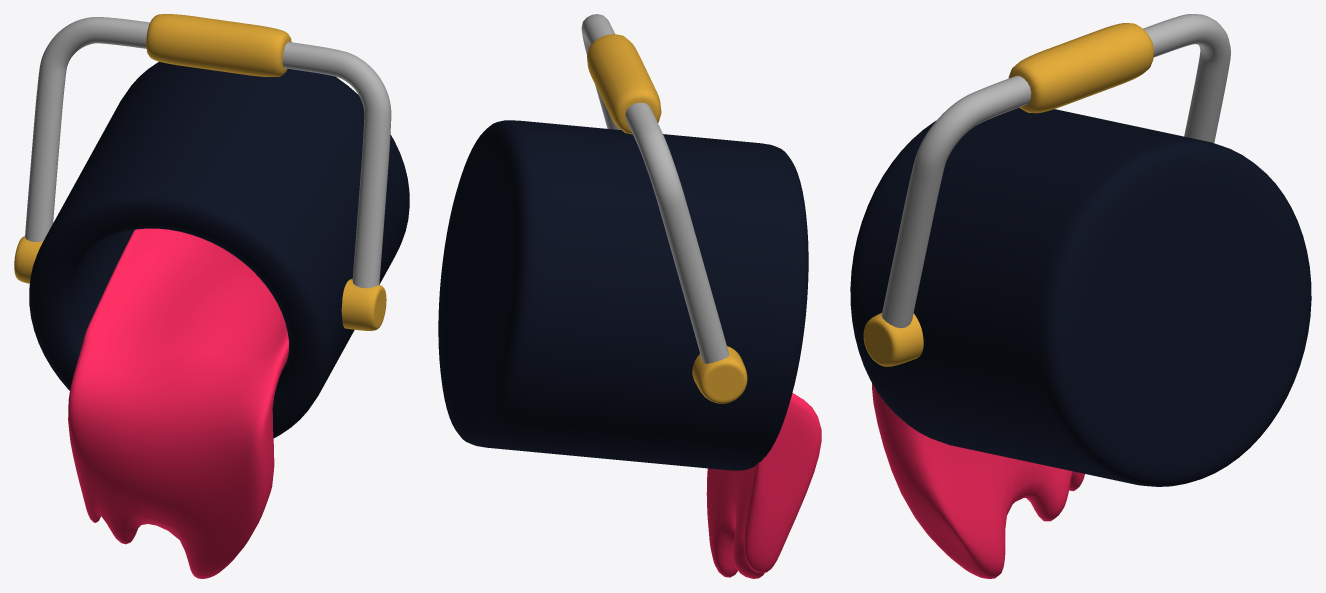
3 views of the same model, side by side, from view 1: azimuth 30°, elevation 25°; view 2: azimuth 150°, elevation 25°; view 3: azimuth 270°, elevation 25° (orthographic). The views are drawn at different scales.
Visible parts, largest first — view 1: 13; view 2: 13; view 3: 13.
Boxes of the visible parts, <box> form: 13: <box>14,14,409,578</box>; 13: <box>438,14,821,578</box>; 13: <box>850,14,1311,578</box>.
Bounding box in the file's own units: 6.17 × 8.43 × 6.19.
